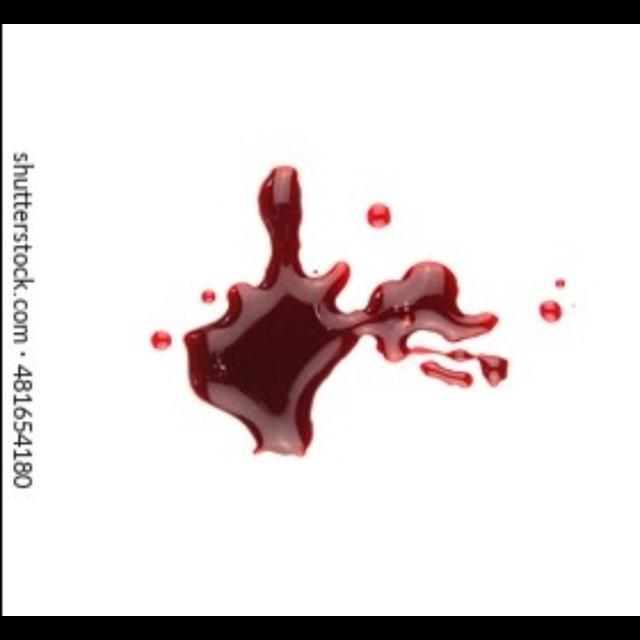blood: (181, 163, 507, 456), (418, 360, 473, 387), (535, 298, 562, 326), (363, 202, 391, 227), (149, 328, 171, 351)
